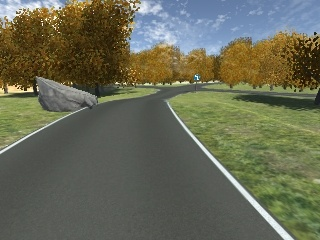Stone: (32, 74, 99, 115)
